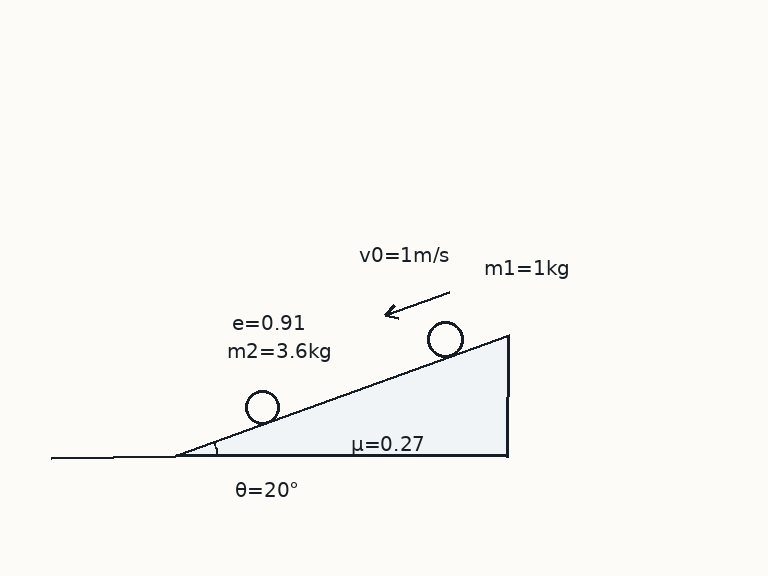ball: (425, 319, 465, 359), (243, 388, 281, 426)
ramp: (175, 334, 510, 458)
